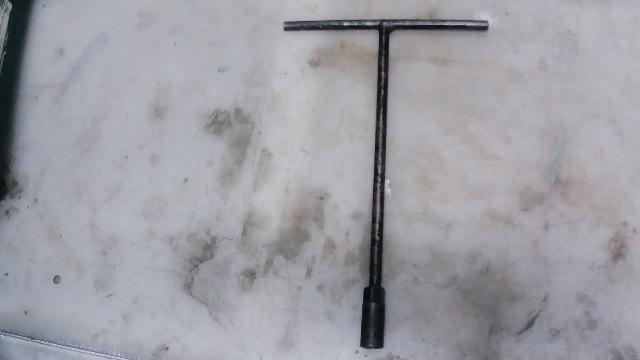kunci_t: (225, 2, 513, 360)
